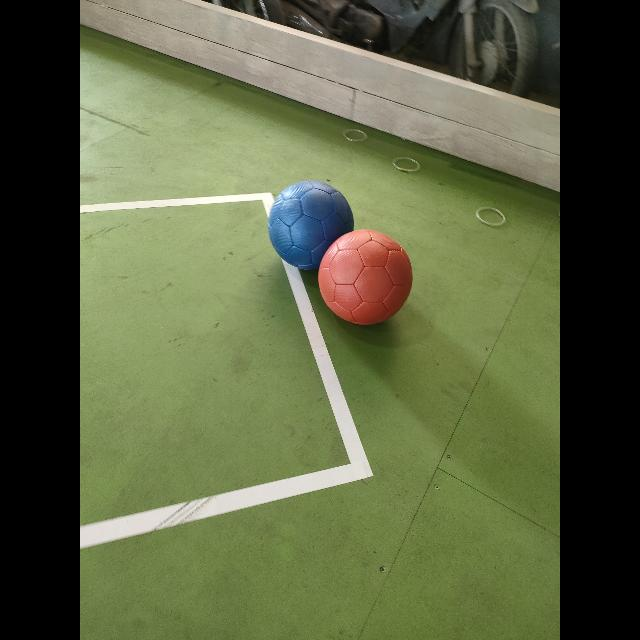B: (269, 180, 354, 270)
R: (319, 230, 412, 325)
